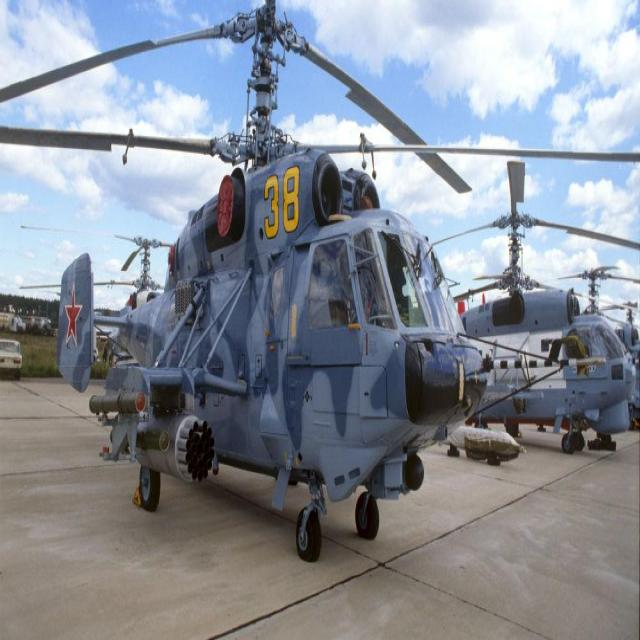MIL_HELO: (4, 12, 493, 556), (397, 151, 640, 474)
